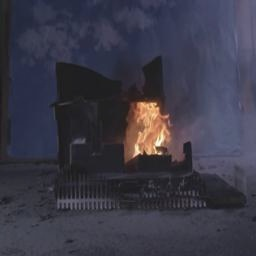fire: (120, 88, 177, 166)
